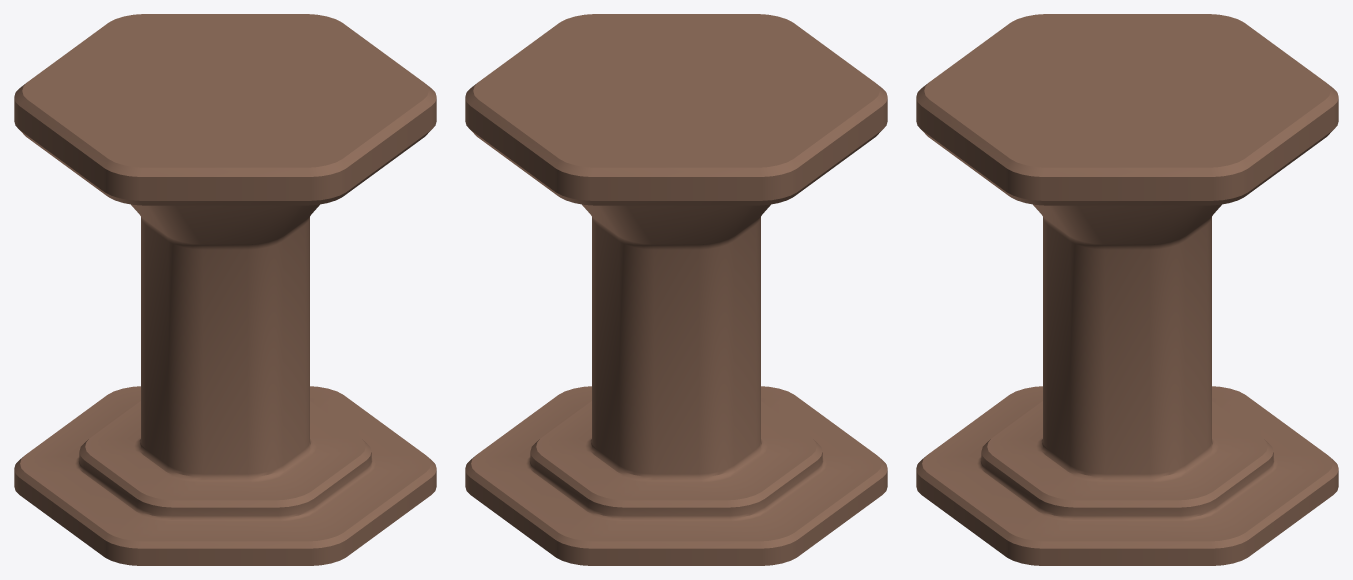
The model's file is Tabletop concept.fbx.
3 views of the same model, side by side, from view 1: azimuth 30°, elevation 25°; view 2: azimuth 150°, elevation 25°; view 3: azimuth 270°, elevation 25° (orthographic).
Visible parts, largest first — view 1: Cylinder.002; view 2: Cylinder.002; view 3: Cylinder.002.
Part boxes in pixels (<box>): Cylinder.002: <box>14,14,436,565</box>; Cylinder.002: <box>465,14,887,565</box>; Cylinder.002: <box>916,14,1338,565</box>.
Bounding box in the file's own units: 173 × 200 × 194.
